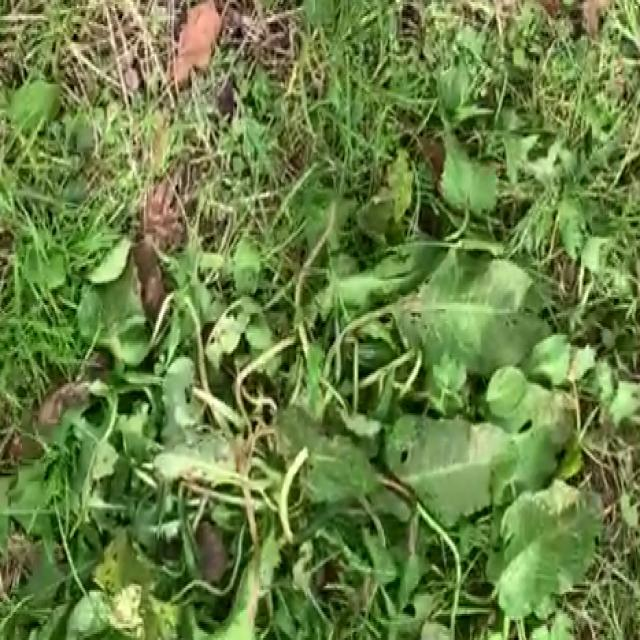organic waste: (74, 174, 590, 640)
